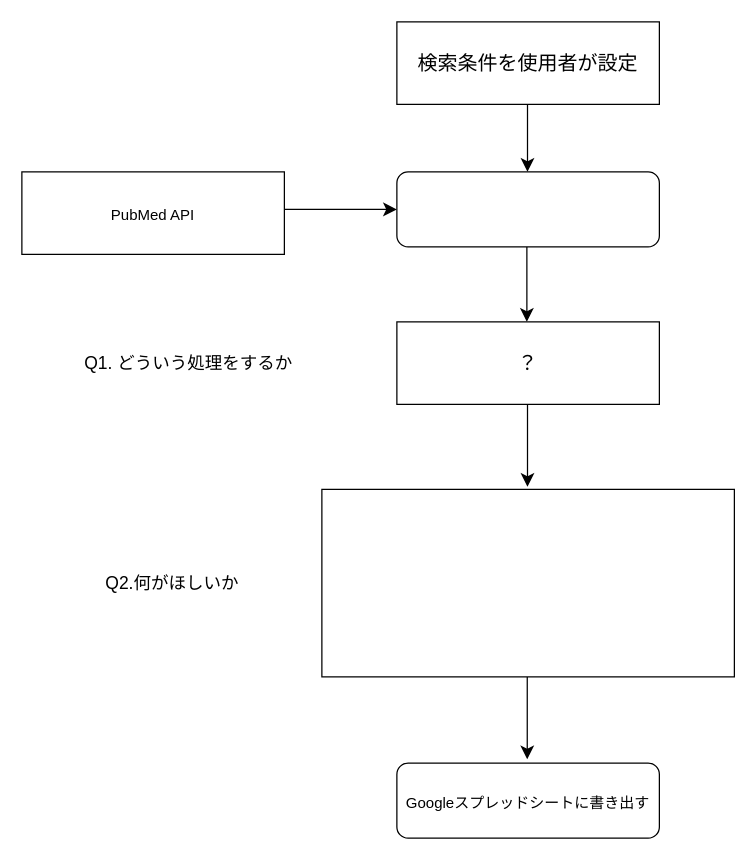
Some shapes in this 756 by 860 pixel diagram are drawn without their labels. Each missing label, with the box of its shape:
Pubmedから データを取得する: (396, 171, 659, 247)
論文の文章中の「遺伝子、タンパク質、過剰発現、変異体、表現型」というキーワードに注目し、それらの対応関係についての情報を抽出して表形式で出力する。: (321, 488, 734, 677)
